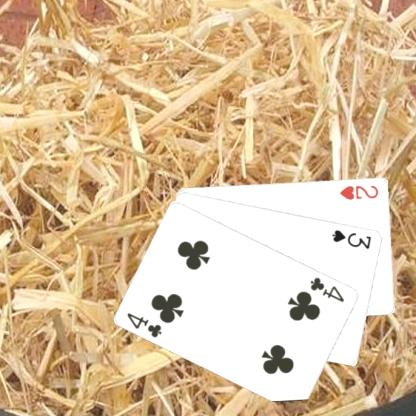2H: (337, 182, 380, 201)
3S: (329, 226, 373, 250)
4C: (124, 309, 164, 339), (308, 274, 346, 303)
